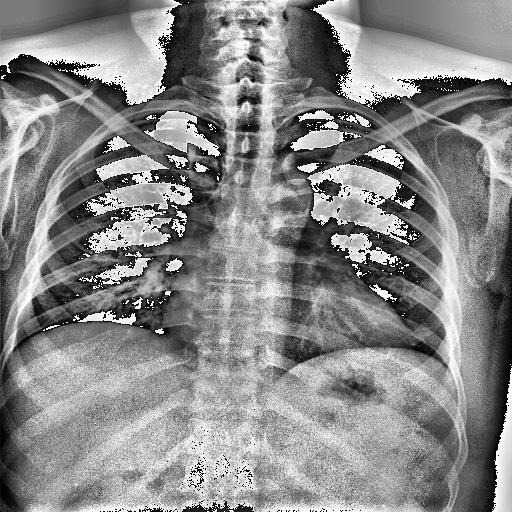0- Aortic enlargement: (256, 165, 316, 216)
3- Cardiomegaly: (157, 296, 417, 364), (168, 296, 414, 362), (163, 292, 418, 346)
